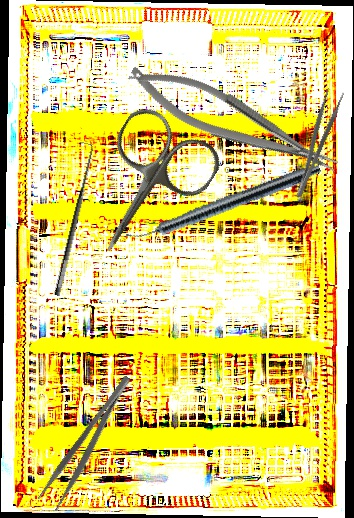Dressing Forceps: (35, 372, 144, 513), (284, 85, 347, 201)
Handpiece: (124, 157, 323, 250)
Hook Surgical: (42, 141, 99, 297)
Iris Scissors: (62, 100, 228, 278)
Needle Holder: (121, 49, 344, 194)
